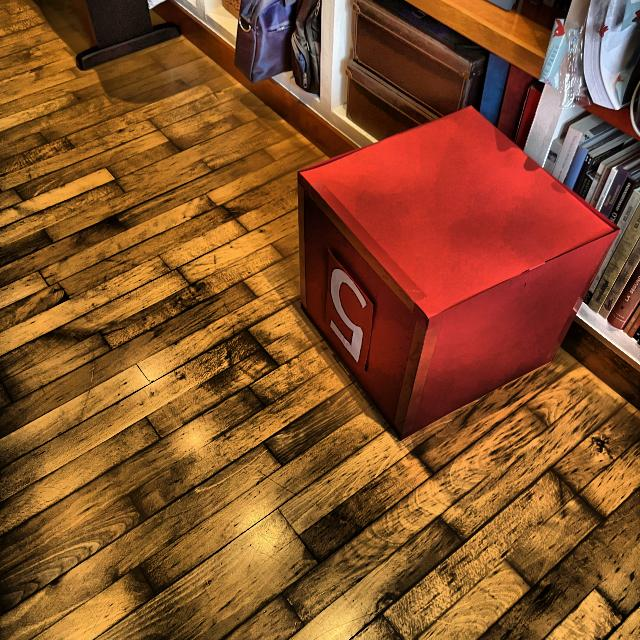five: (328, 264, 369, 362)
red box: (300, 106, 620, 443)
